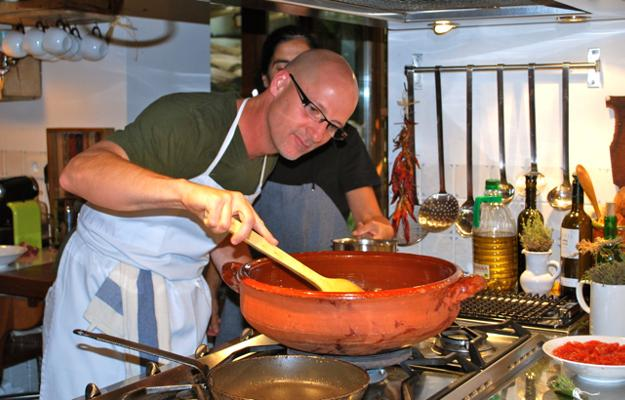person: (36, 50, 359, 400)
